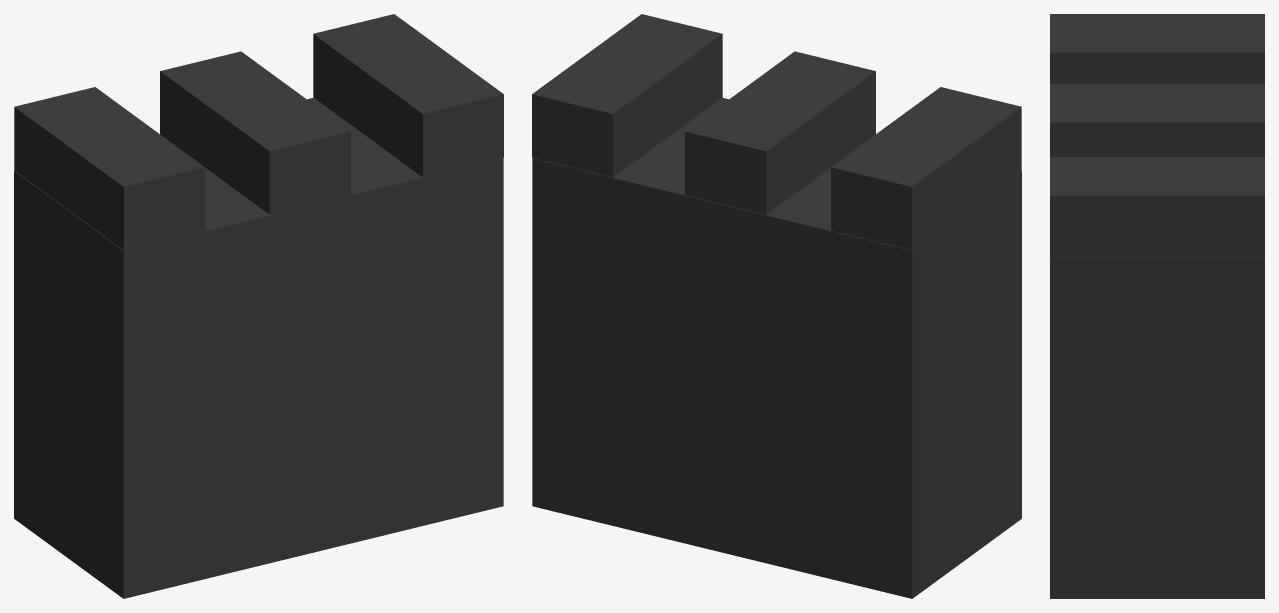
Rendered from Castle_Block_A.FBX.
The picture shows the model from 3 angles, left to right: view 1: azimuth 30°, elevation 25°; view 2: azimuth 150°, elevation 25°; view 3: azimuth 270°, elevation 25°; orthographic projection. The views are drawn at different scales.
Visible parts, largest first — view 1: Castle_Block_A; view 2: Castle_Block_A; view 3: Castle_Block_A.
Boxes of the visible parts, x1,y1,x2,y2 form: Castle_Block_A: [14, 14, 503, 598]; Castle_Block_A: [532, 14, 1021, 598]; Castle_Block_A: [1050, 14, 1264, 598].
Size of the model in its own units: 40.04 by 41.44 by 20.
